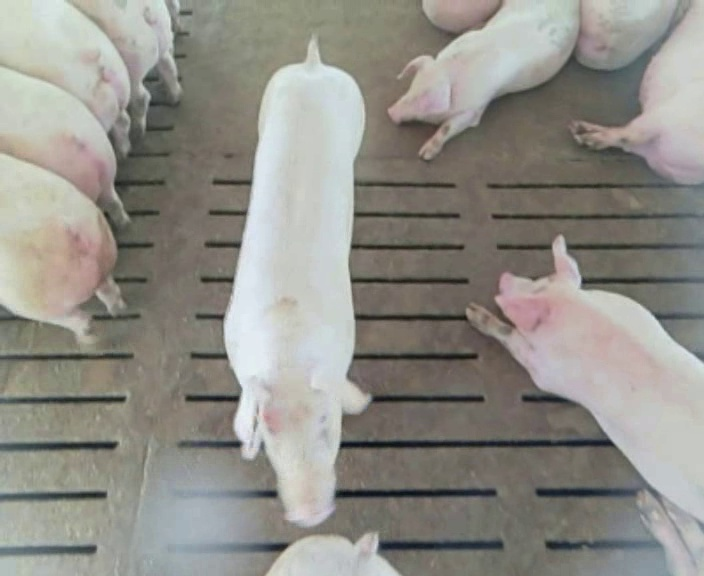pig: (224, 37, 369, 526), (466, 235, 703, 522), (388, 2, 578, 159), (570, 2, 703, 183), (74, 2, 181, 142), (575, 1, 677, 69), (267, 532, 398, 575), (422, 1, 500, 32)
